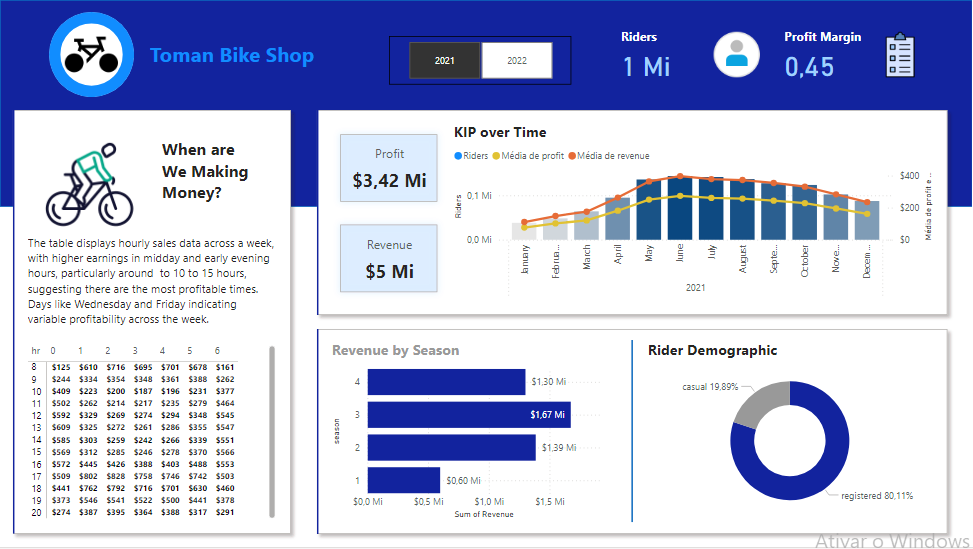

What the dashboard file says about the page in this screenshot:
{"tool":"powerbi","page":{"name":"Page 1","canvas":[1280,720],"ordinal":0},"visuals":[{"type":"shape","box":[0,0,1280,272],"z":0},{"type":"cardVisual","fields":{"Data":["Sum(Query2.riders)"]},"box":[0,128,400,592],"z":1000},{"type":"cardVisual","fields":{"Data":["Sum(Query2.riders)"]},"box":[400,128,864,304],"z":2000},{"type":"cardVisual","fields":{"Data":["Sum(Query2.riders)"]},"box":[400,416,864,304],"z":3000},{"type":"cardVisual","fields":{"Data":["Sum(Query2.riders)"]},"box":[32,160,176,144],"z":4000},{"type":"pivotTable","fields":{"Rows":["Query2.hr"],"Columns":["Query2.weekday"],"Values":["Avg(Query2.revenue)"]},"box":[32,448,336,240],"z":5000},{"type":"textbox","box":[208,176,144,112],"z":6000},{"type":"textbox","box":[32,304,336,144],"z":7000},{"type":"lineClusteredColumnComboChart","title":"KIP over Time","fields":{"Category":["Query2.dteday.Variation.Date Hierarchy.Year","Query2.dteday.Variation.Date Hierarchy.Month","Query2.dteday.Variation.Date Hierarchy.Day"],"Y":["Sum(Query2.riders)"],"Y2":["Avg(Query1.profit)","Avg(Query1.revenue)"]},"box":[592,160,640,240],"z":8000},{"type":"clusteredBarChart","title":"Revenue by Season","fields":{"Y":["Sum(Query1.revenue)"],"Category":["Query1.season"]},"box":[432,448,384,240],"z":9000},{"type":"donutChart","title":"Rider Demographic","fields":{"Category":["Query1.rider_type"],"Y":["Sum(Query1.riders)"]},"box":[848,448,384,240],"z":10000},{"type":"shape","box":[816,448,32,240],"z":11000},{"type":"cardVisual","title":"KIP over Time","fields":{"Data":["Sum(Query1.profit)","Sum(Query1.revenue)"]},"box":[432,160,160,240],"z":12000},{"type":"cardVisual","fields":{"Data":["Sum(Query1.riders)","Query1.Profit Margin"]},"box":[800,16,432,112],"z":13000},{"type":"shape","box":[64,16,112,112],"z":14000},{"type":"image","box":[80,32,80,80],"z":15000},{"type":"textbox","box":[192,48,352,64],"z":16000},{"type":"slicer","fields":{"Values":["Query1.Years"]},"box":[512,48,240,64],"z":17000}]}

Visuals, with their boxes on the page's 1280x720 design canvas (x1, y1, x2, y2). These are canvas units, not pixel positions in the 973x549 screenshot, which may show the page scaled, cropped or inside an application window:
shape: <box>0,0,1280,272</box>
cardVisual - Sum(Query2.riders): <box>0,128,400,720</box>
cardVisual - Sum(Query2.riders): <box>400,128,1264,432</box>
cardVisual - Sum(Query2.riders): <box>400,416,1264,720</box>
cardVisual - Sum(Query2.riders): <box>32,160,208,304</box>
pivotTable - Query2.hr x Query2.weekday: <box>32,448,368,688</box>
textbox: <box>208,176,352,288</box>
textbox: <box>32,304,368,448</box>
"KIP over Time" lineClusteredColumnComboChart: <box>592,160,1232,400</box>
"Revenue by Season" clusteredBarChart: <box>432,448,816,688</box>
"Rider Demographic" donutChart: <box>848,448,1232,688</box>
shape: <box>816,448,848,688</box>
"KIP over Time" cardVisual: <box>432,160,592,400</box>
cardVisual - Sum(Query1.riders) x Query1.Profit Margin: <box>800,16,1232,128</box>
shape: <box>64,16,176,128</box>
image: <box>80,32,160,112</box>
textbox: <box>192,48,544,112</box>
slicer - Query1.Years: <box>512,48,752,112</box>
